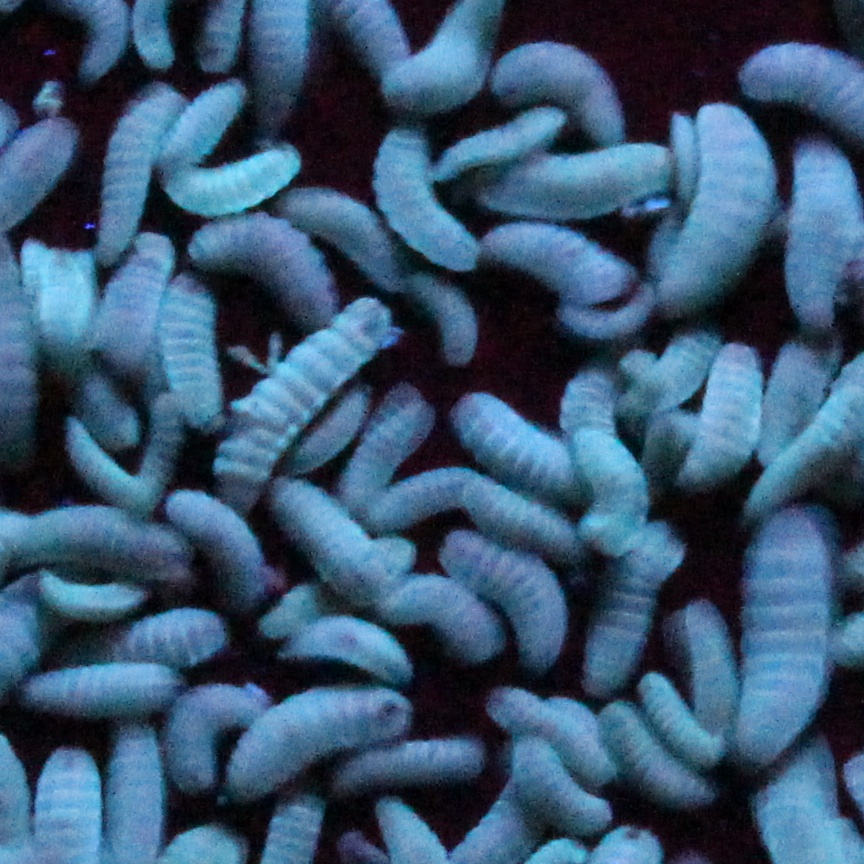larve: (206, 307, 413, 493), (659, 105, 763, 321), (742, 514, 828, 764), (225, 695, 418, 804), (440, 536, 578, 672), (364, 122, 483, 274), (97, 81, 190, 266), (194, 214, 339, 321), (270, 481, 404, 595), (13, 505, 190, 590), (676, 341, 764, 502), (447, 401, 584, 501), (495, 48, 635, 145), (786, 155, 861, 328), (480, 693, 611, 780), (566, 428, 654, 554), (168, 490, 257, 609), (487, 226, 628, 300), (604, 705, 707, 805), (509, 738, 611, 835), (599, 535, 667, 680), (96, 236, 173, 361), (62, 418, 177, 500), (285, 609, 409, 681), (166, 269, 216, 440), (453, 478, 572, 549), (26, 667, 187, 717), (388, 587, 505, 655), (332, 740, 490, 790), (159, 81, 247, 169), (644, 676, 723, 759)
